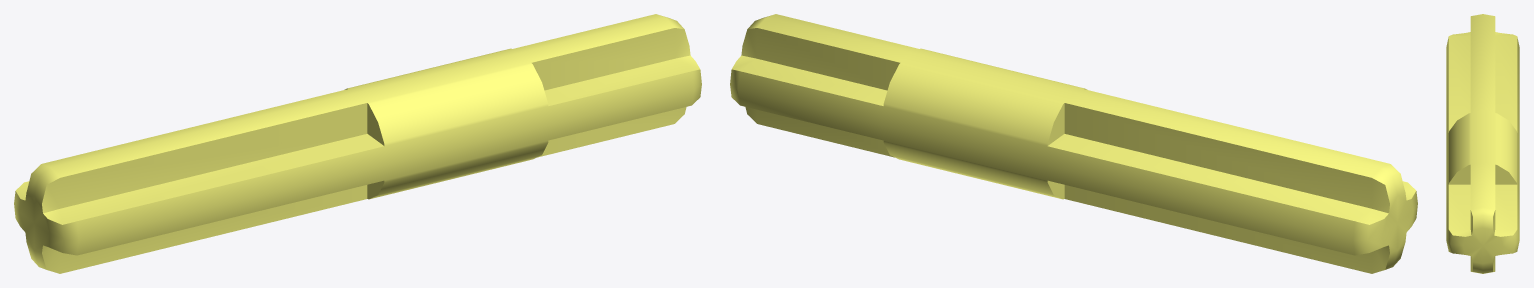
3 renders of one model, left to right at view 1: azimuth 30°, elevation 25°; view 2: azimuth 150°, elevation 25°; view 3: azimuth 270°, elevation 25°, orthographic. The views are drawn at different scales.
Visible parts, largest first — view 1: 99008.dat; view 2: 99008.dat; view 3: 99008.dat.
Boxes of the visible parts, x1,y1,x2,y2 form: 99008.dat: (14,14,701,273); 99008.dat: (730,14,1417,273); 99008.dat: (1446,14,1519,273).
Bounding box in the file's own units: 0.0316 × 0.0048 × 0.0048.
